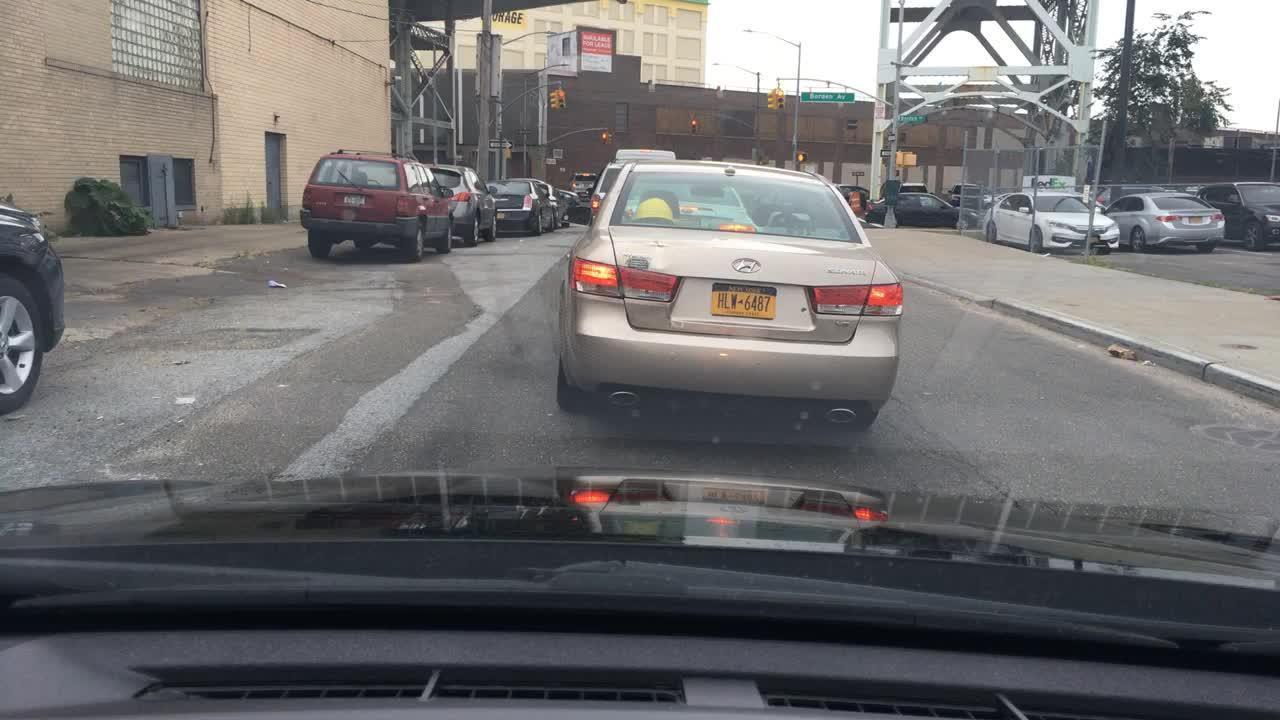Hyundai: (724, 245, 766, 280)
